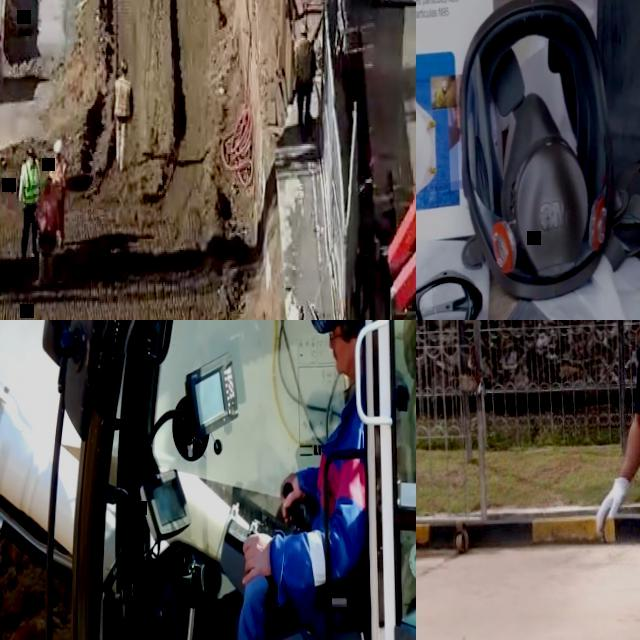helmet: (54, 140, 65, 154), (119, 61, 129, 74), (28, 148, 38, 160), (300, 25, 310, 34)
machinery: (0, 320, 416, 640), (383, 139, 416, 311)
mask: (460, 0, 612, 302)
no_mask: (332, 346, 354, 372)
person: (233, 320, 370, 640), (594, 320, 640, 640), (33, 179, 66, 289), (18, 146, 43, 264), (294, 24, 318, 126), (113, 59, 134, 175), (49, 140, 68, 251)
vest: (310, 409, 365, 599), (40, 195, 58, 235), (24, 166, 42, 204), (115, 81, 132, 117), (50, 160, 66, 186)
